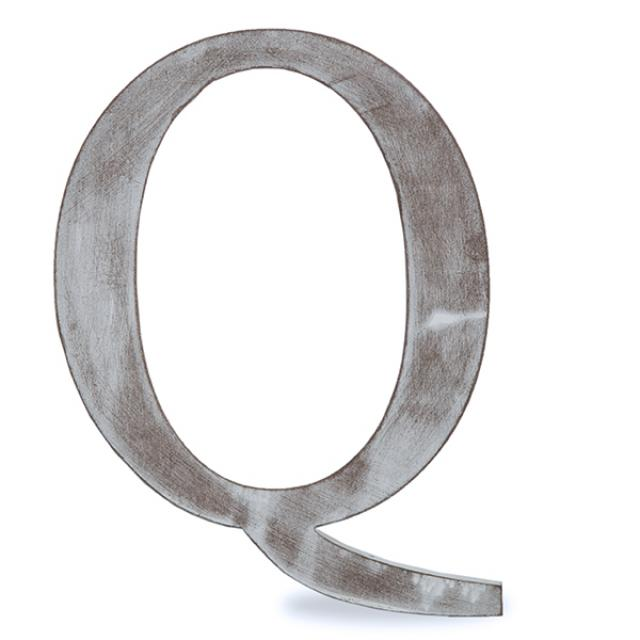Q: (16, 35, 573, 623)
